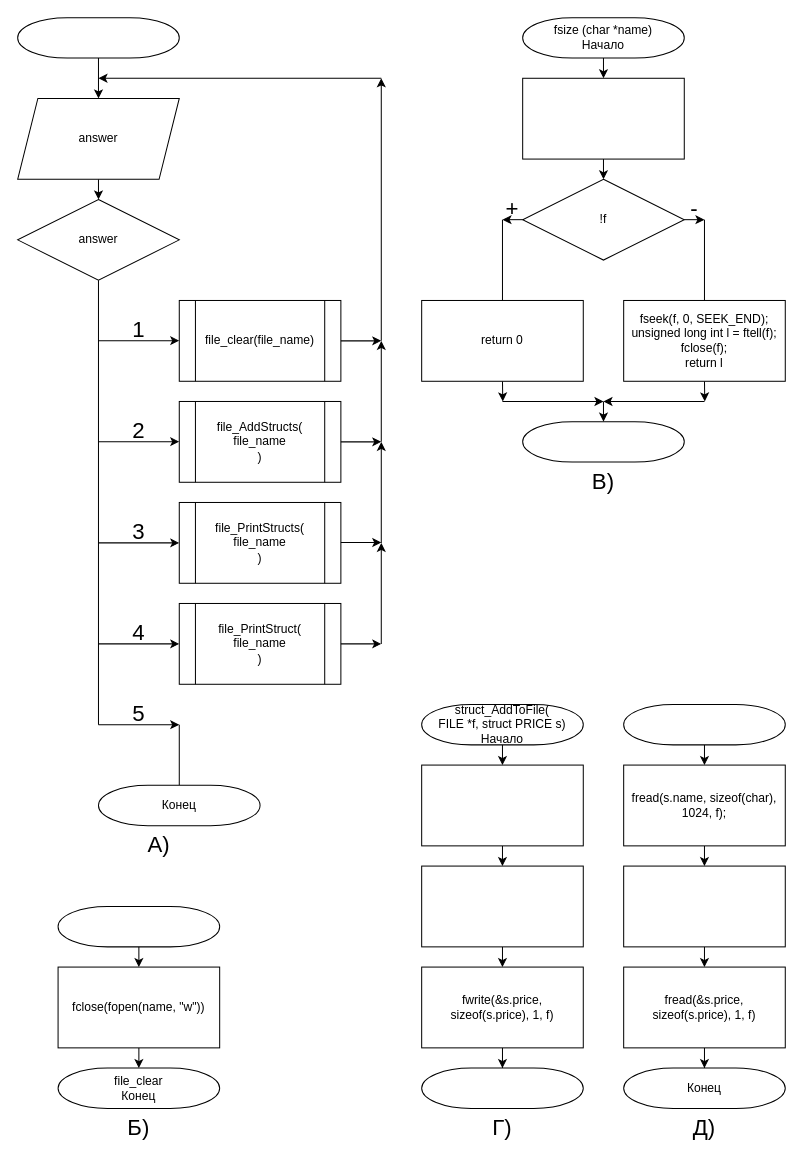
Some shapes in this 803 by 1159 pixel diagram are drawn without their labels. Each missing label, with the centre of its shape:
*f = fopen(name, "r"): the point at 603,118
file_clear (char *name) Начало: the point at 138,926
fread(s.market, sizeof(char), 1024, f);: the point at 704,906
fsize Конец: the point at 603,441
fwrite(s.market, sizeof(char), 1024, f);: the point at 502,906
fwrite(s.name, sizeof(char), 1024, f);: the point at 502,805
struct_AddToFile Конец: the point at 502,1087
struct_GetFromFIle( FILE *f, struct PRICE s) Начало: the point at 704,724
Начало: the point at 98,37
